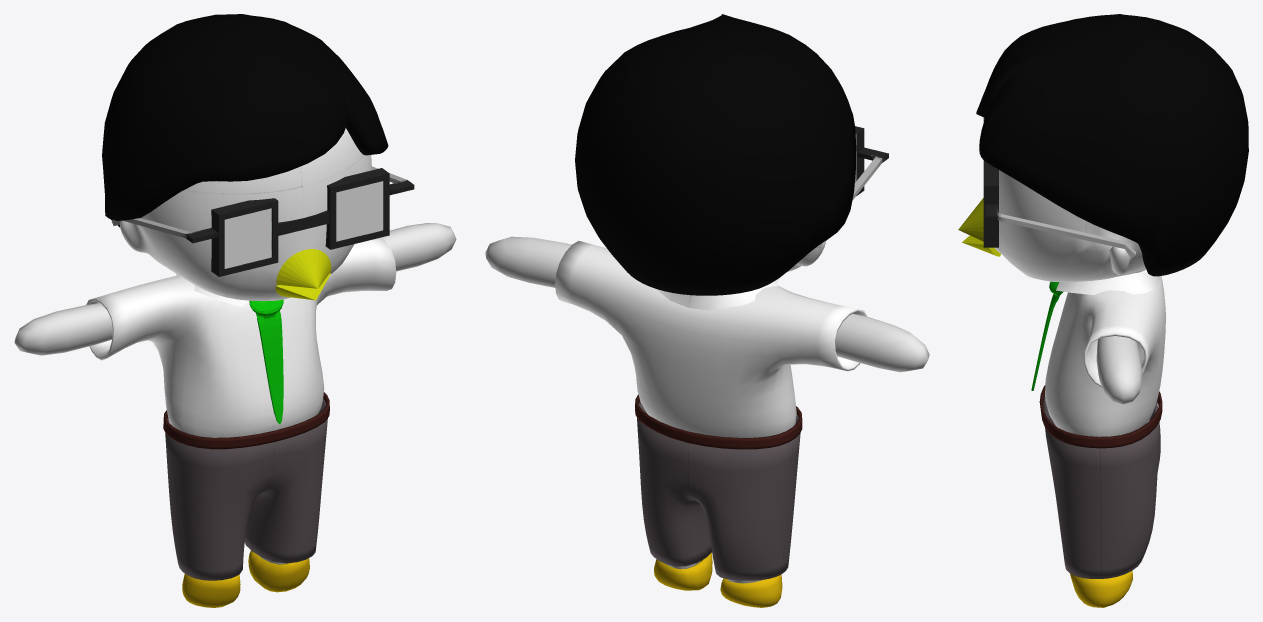
File: riman3D.fbx
3 views of the same model, side by side, from view 1: azimuth 30°, elevation 25°; view 2: azimuth 150°, elevation 25°; view 3: azimuth 270°, elevation 25° (orthographic).
Visible parts, largest first — view 1: back_hair, shirt, pants, Face_base, glasses, body_base, kutsu, tie, belt, Cone.001; view 2: back_hair, shirt, pants, body_base, kutsu, belt, eri, glasses; view 3: back_hair, pants, shirt, Face_base, body_base, glasses, belt, eri, kutsu, Cone.001, tie.
Boxes of the visible parts, x1,y1,x2,y2 form: back_hair: (102,14,388,227); shirt: (86,237,396,437); pants: (165,399,327,580); Face_base: (120,128,371,301); glasses: (111,166,414,276); body_base: (14,223,456,564); kutsu: (182,550,309,607); tie: (249,299,283,424); belt: (163,392,329,449); Cone.001: (276,249,331,288); back_hair: (575,14,856,295); shirt: (555,241,866,437); pants: (637,401,800,580); body_base: (485,236,929,583); kutsu: (654,552,782,607); belt: (635,394,802,449); eri: (656,279,778,310); glasses: (816,126,888,248); back_hair: (976,14,1248,276); pants: (1043,395,1160,578); shirt: (1045,276,1165,436); Face_base: (994,170,1146,282); body_base: (1096,336,1149,422); glasses: (983,117,1135,258); belt: (1039,385,1162,448); eri: (1056,269,1159,294); kutsu: (1070,571,1132,607); Cone.001: (958,198,983,241); tie: (1031,281,1063,390).
Bounding box in the file's own units: 260 × 318 × 149.
